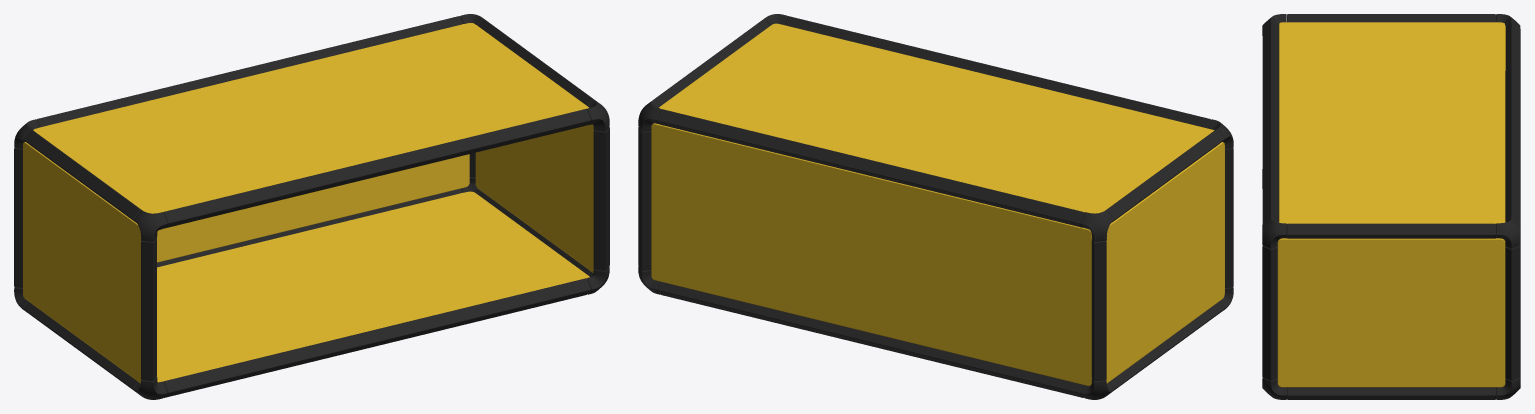
3 views of the same model, side by side, from view 1: azimuth 30°, elevation 25°; view 2: azimuth 150°, elevation 25°; view 3: azimuth 270°, elevation 25° (orthographic). The views are drawn at different scales.
Visible parts, largest first — view 1: 729x329x229; view 2: 729x329x229; view 3: 729x329x229.
Part boxes in pixels (box(x1,y1,x2,y2)): 729x329x229: box(14, 14, 609, 399); 729x329x229: box(638, 14, 1233, 399); 729x329x229: box(1262, 14, 1520, 399).
Size of the model in its own units: 0.8067 by 0.3066 by 0.4063.
